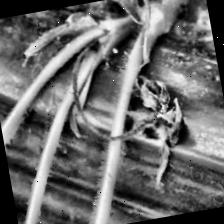Gray Mold: (102, 68, 196, 192)
